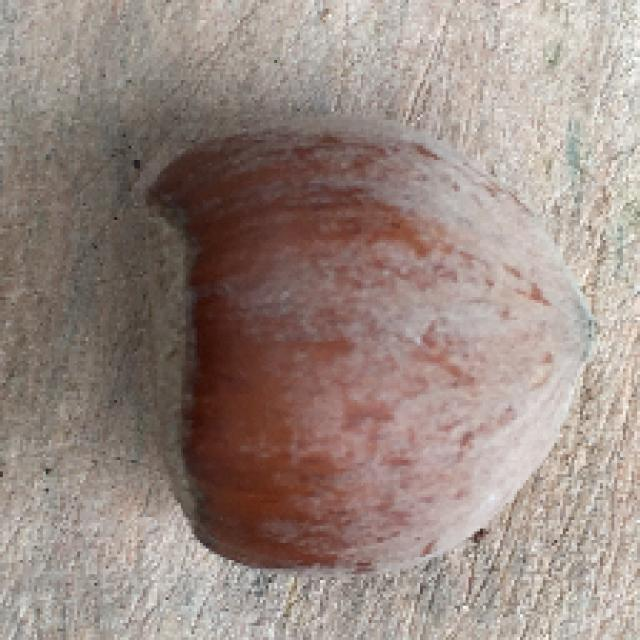qualityHazelnut: (119, 128, 593, 582)
